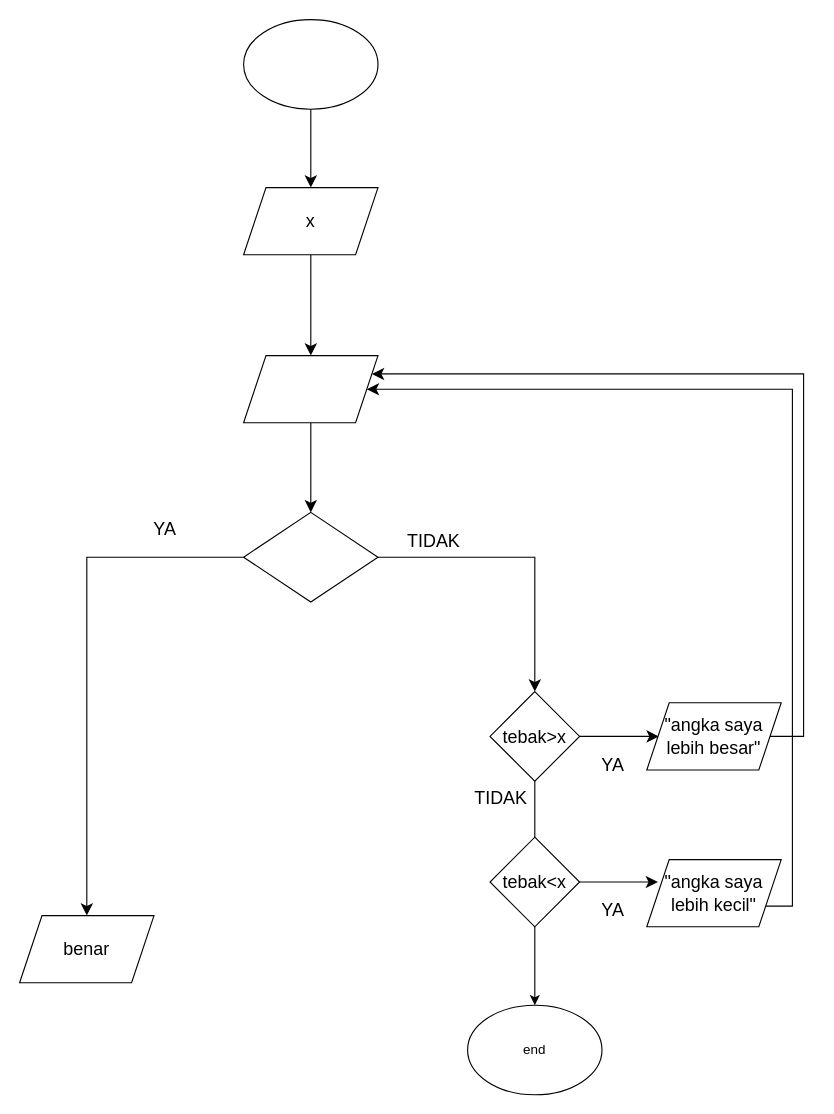
Image size: 834x1114. Some labels were removed from this diagram. Here are the shapes that lost their labels. From the top down, the centre of each, then its label:
the point at 310,63: star
the point at 310,388: tebak
the point at 310,556: x=tebak
